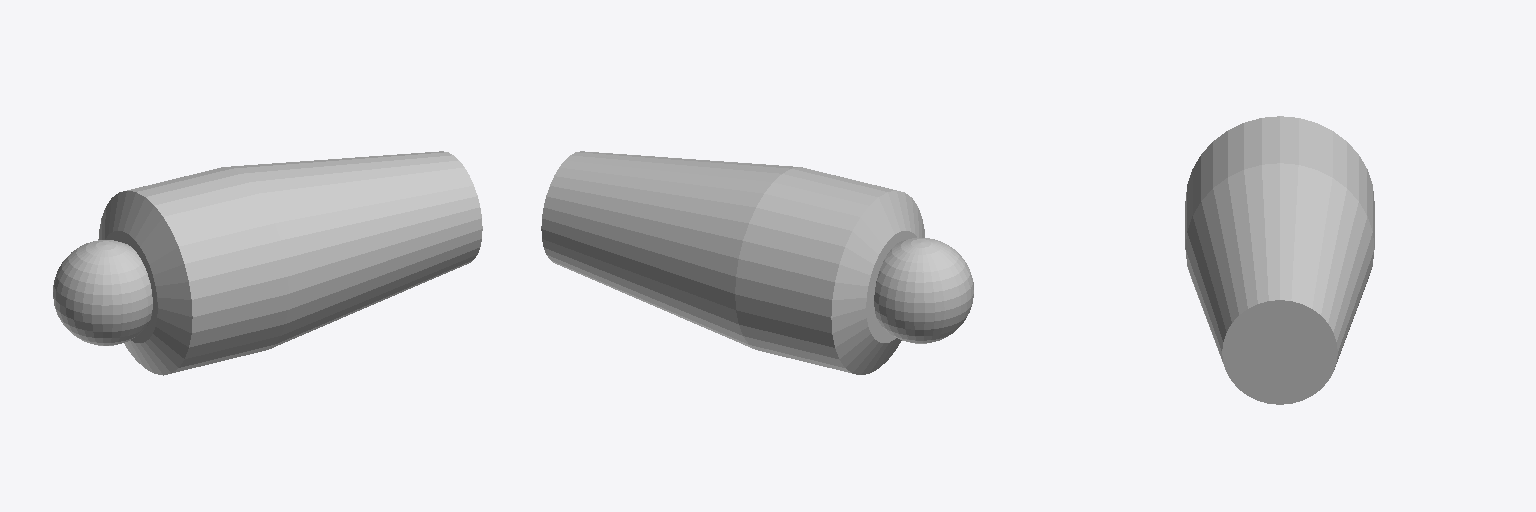
The model's file is limb2.obj.
3 renders of one model, left to right at view 1: azimuth 30°, elevation 25°; view 2: azimuth 150°, elevation 25°; view 3: azimuth 270°, elevation 25°, orthographic.
Visible parts, largest first — view 1: Limb1_Cylinder.001, Sphere; view 2: Limb1_Cylinder.001, Sphere; view 3: Limb1_Cylinder.001.
Part boxes in pixels (x1,y1,x2,y2): Limb1_Cylinder.001: (98,151,482,375); Sphere: (53,240,152,345); Limb1_Cylinder.001: (541,151,924,374); Sphere: (874,238,973,343); Limb1_Cylinder.001: (1185,116,1374,404).
Bounding box in the file's own units: 0.7804 × 0.3235 × 0.3235.